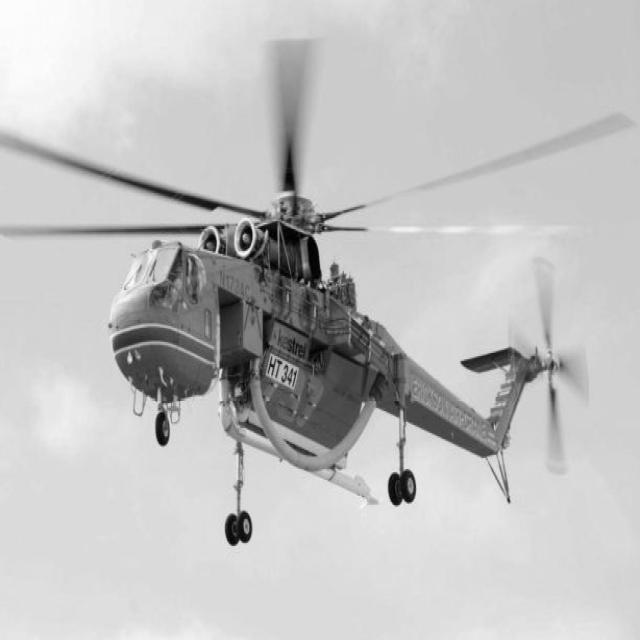helicopter: (1, 24, 637, 558)
